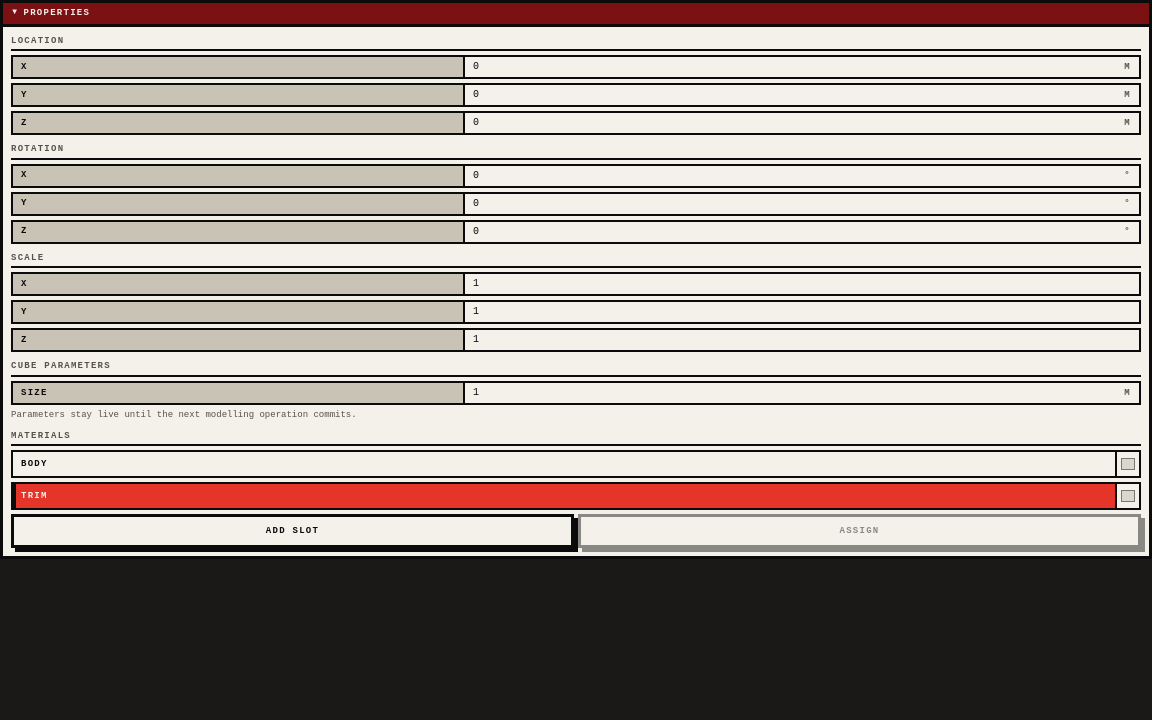
it: PropertiesPanel material slots › renames a slot on double click
Double-click the button "BODY" at x=34, y=464, box [13,452,1115,476]
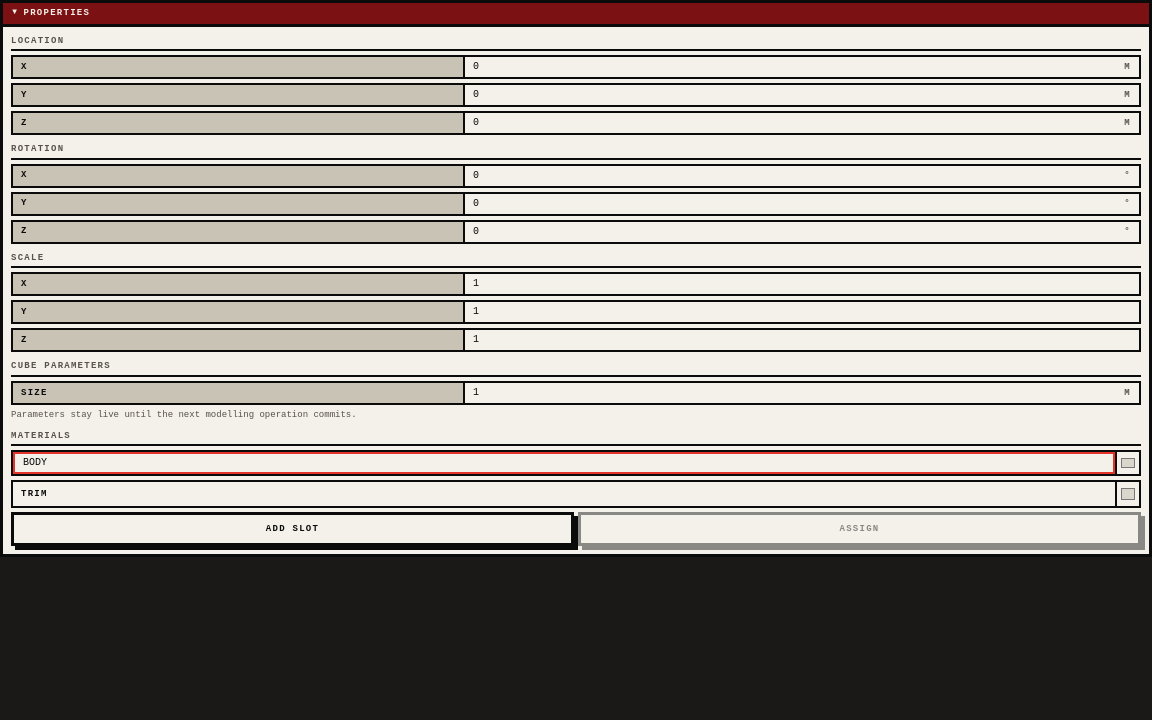
Replace the text in the field showing "BODY" with "CHROME" at x=564, y=463, box [13,452,1115,474]
Then press Enter
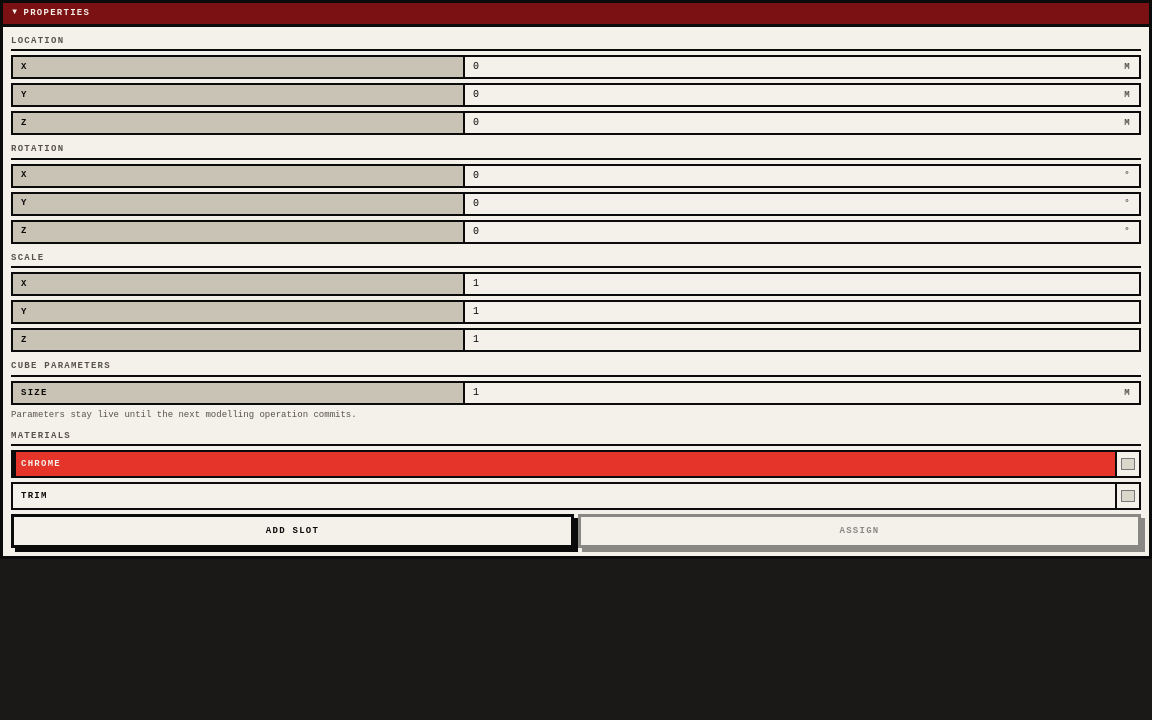
Now the button "CHROME" is shown, box [13,452,1115,476]
